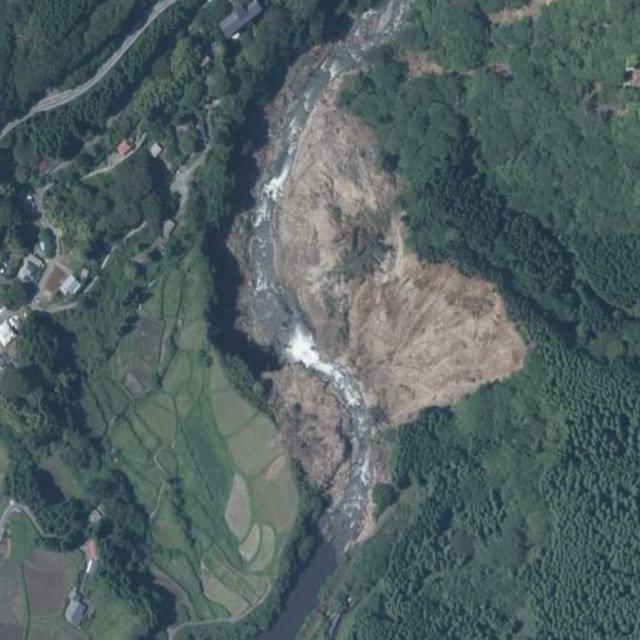landslide: (275, 82, 525, 426)
